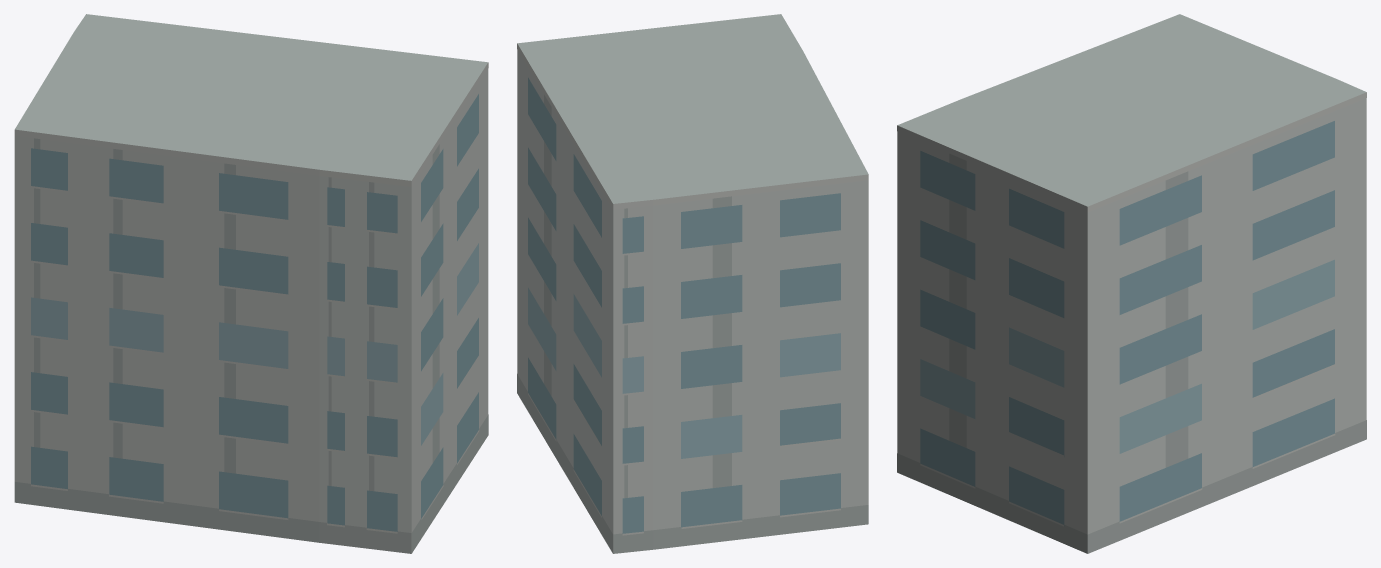
File: survey-upis-32773218.glb
The picture shows the model from 3 angles, left to right: view 1: azimuth 30°, elevation 25°; view 2: azimuth 150°, elevation 25°; view 3: azimuth 270°, elevation 25°; orthographic projection. The views are drawn at different scales.
Visible parts, largest first — view 1: survey-upis-32773218.tmp; view 2: survey-upis-32773218.tmp; view 3: survey-upis-32773218.tmp.
Boxes of the visible parts, box(x1,y1,x2,y2) form: survey-upis-32773218.tmp: box(14, 14, 488, 553); survey-upis-32773218.tmp: box(517, 14, 868, 553); survey-upis-32773218.tmp: box(897, 14, 1366, 553).
Size of the model in its own units: 17.35 by 14.57 by 17.87.
